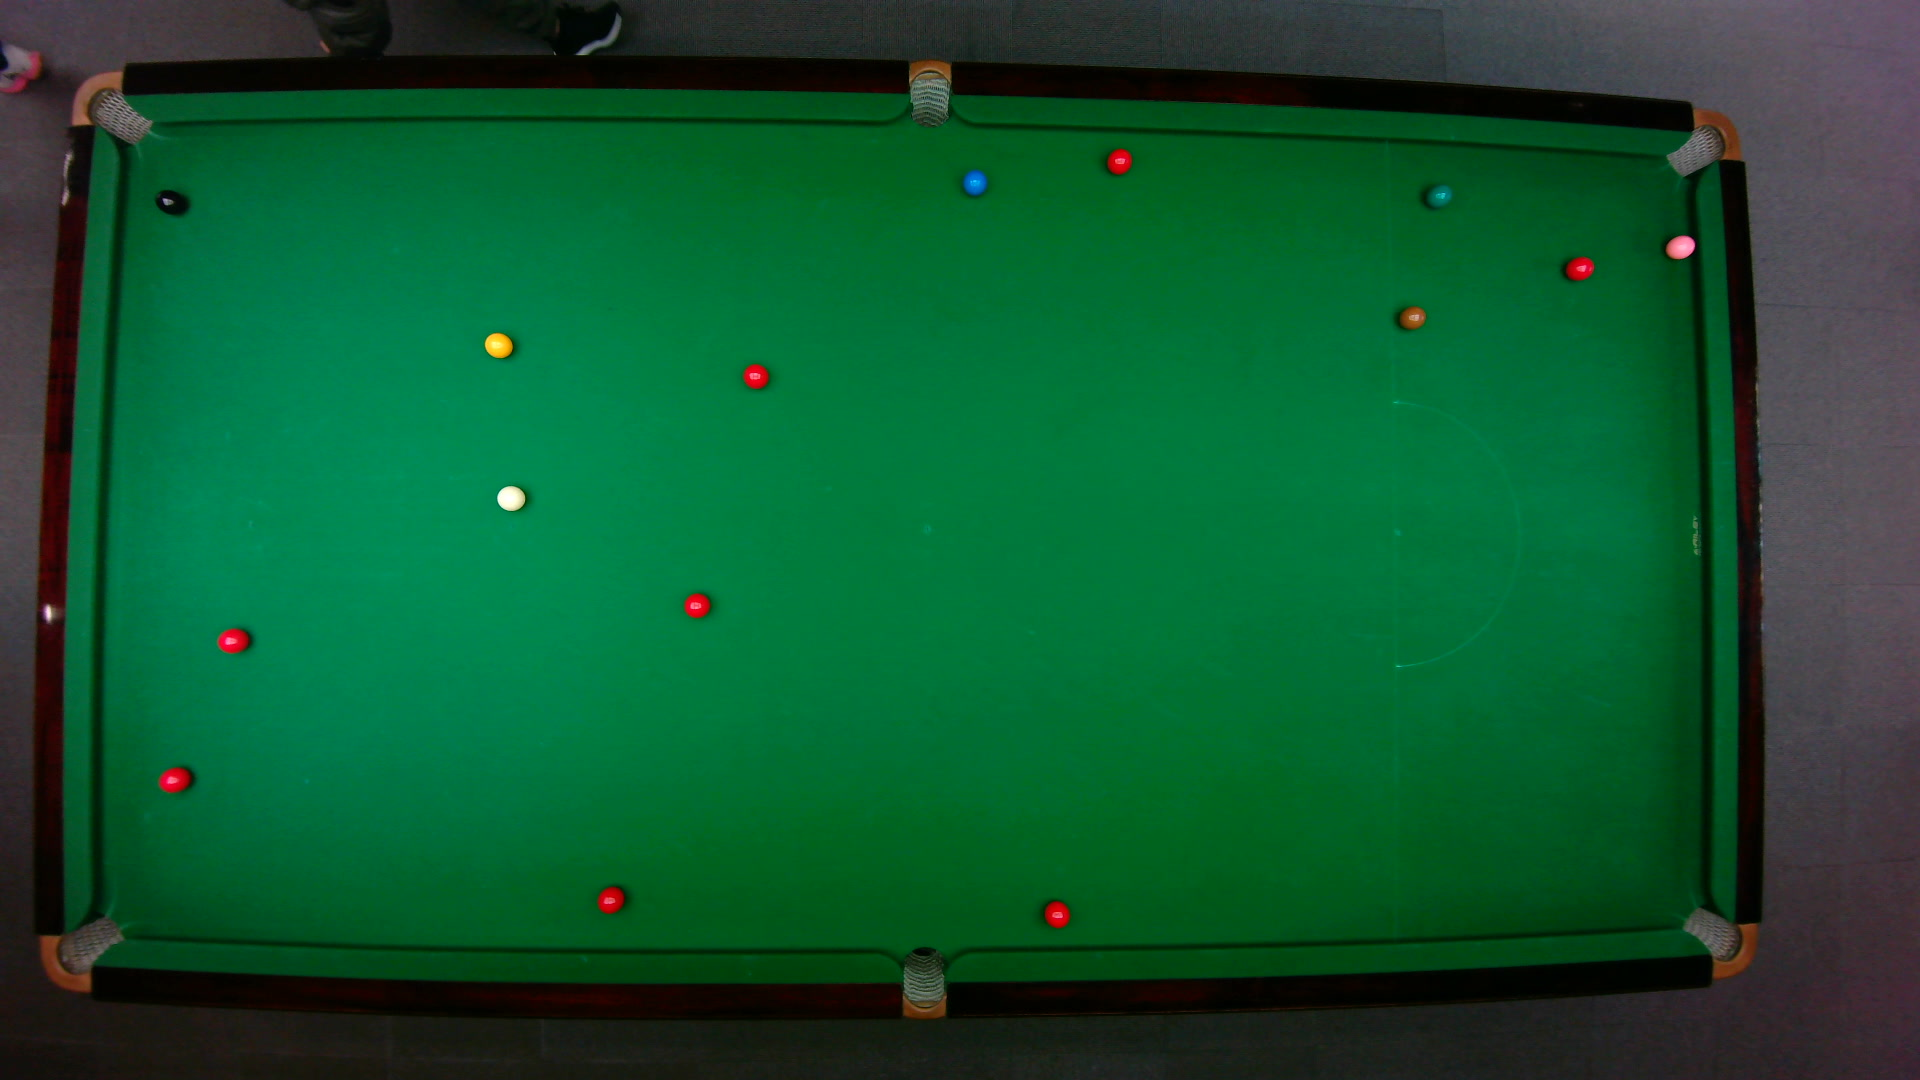bag: (37, 913, 125, 992), (69, 69, 153, 145), (1679, 905, 1756, 978), (1663, 107, 1741, 177), (901, 944, 944, 1021), (909, 57, 949, 128)
black: (154, 189, 186, 215)
blue: (961, 167, 988, 195)
brown: (1396, 305, 1427, 330)
green: (1423, 182, 1453, 208)
pink: (1663, 232, 1697, 260)
red: (156, 765, 193, 793), (215, 626, 251, 653), (595, 884, 625, 914), (1563, 253, 1596, 281), (1104, 146, 1133, 175), (680, 591, 711, 618), (1043, 899, 1071, 928), (741, 361, 769, 389)
white: (495, 484, 526, 512)
yellow: (483, 330, 513, 357)
zone: (1391, 400, 1520, 669)
